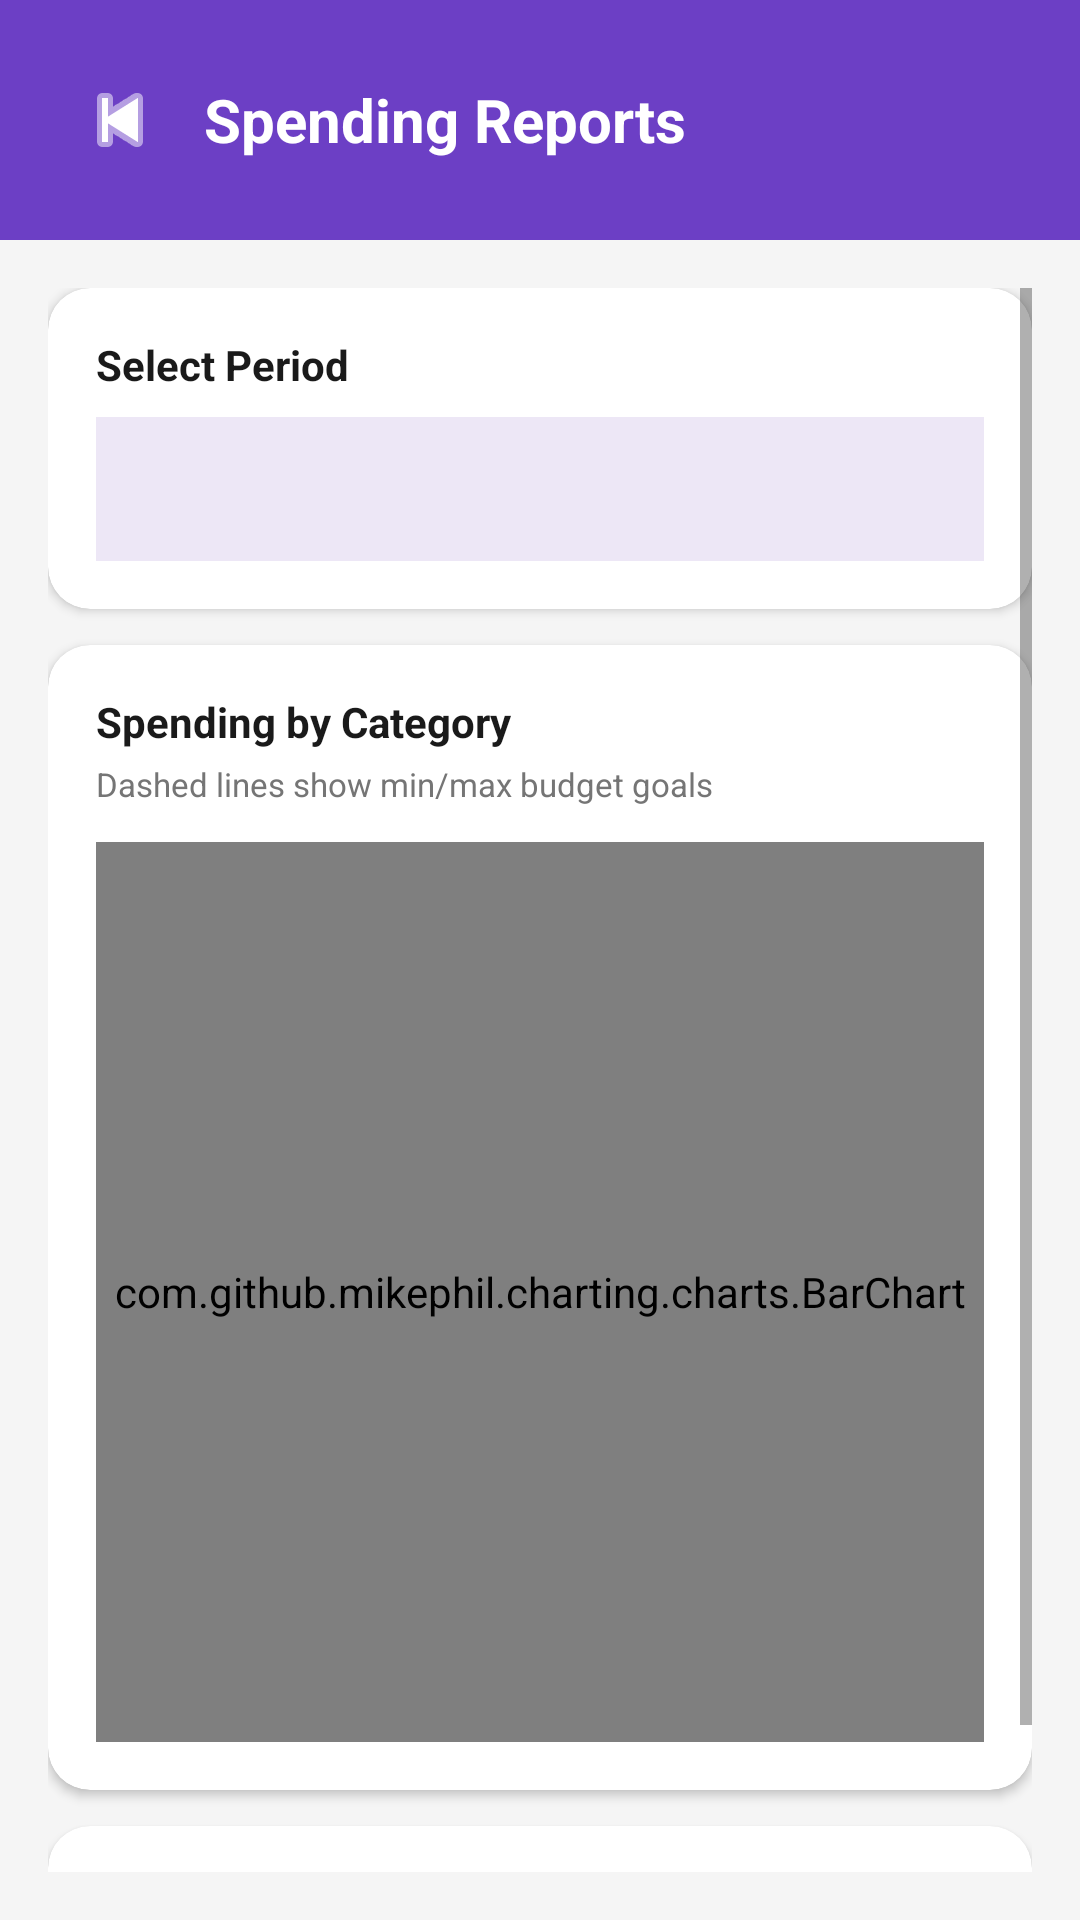

Screen size 1080×1920. Icon name, then its center in pixels as (x=x, y=y):
previous: (x=120, y=120)
